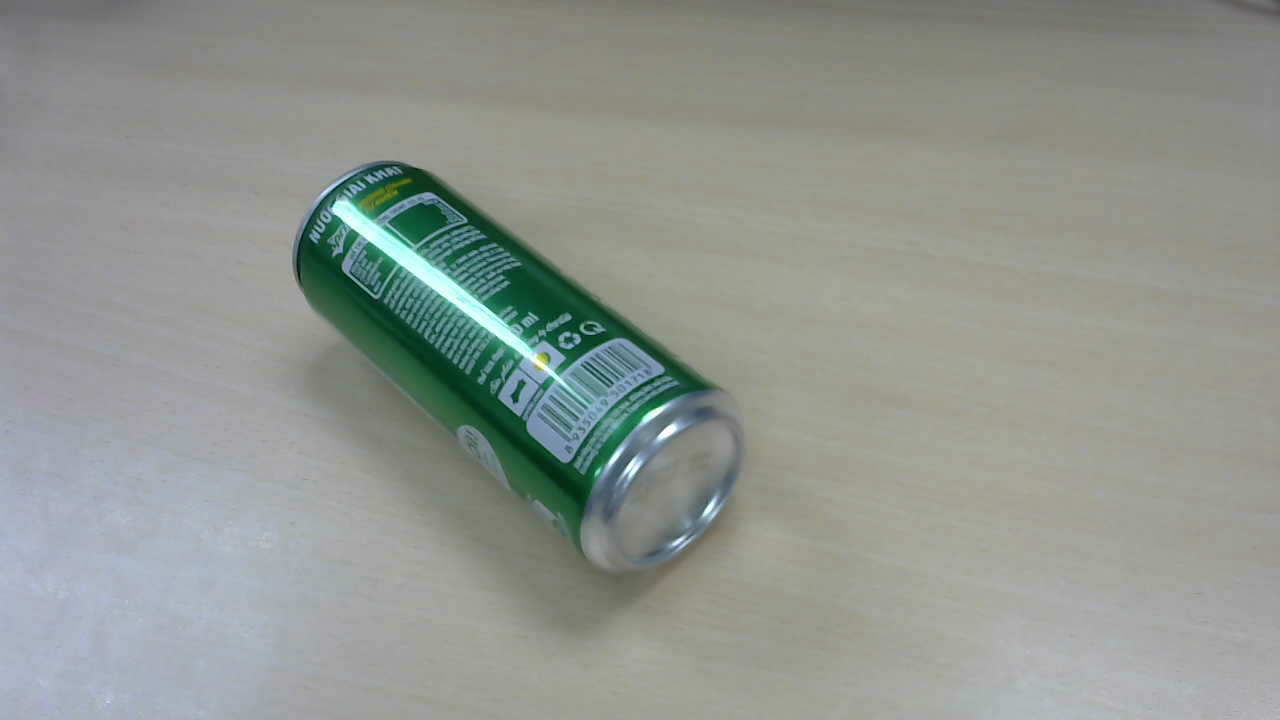Sprite: (265, 132, 767, 586)
